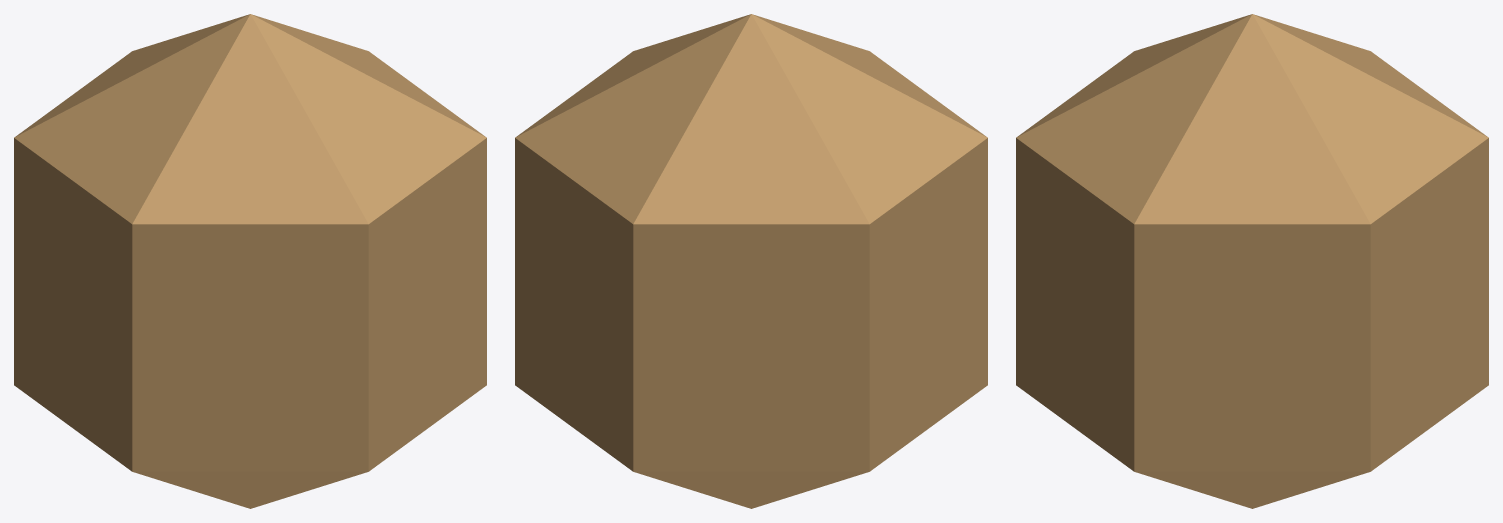
File: Eco Fase 1.fbx
The picture shows the model from 3 angles, left to right: view 1: azimuth 30°, elevation 25°; view 2: azimuth 150°, elevation 25°; view 3: azimuth 270°, elevation 25°; orthographic projection.
Visible parts, largest first — view 1: Sphere; view 2: Sphere; view 3: Sphere.
Part boxes in pixels (x1=…): Sphere: x1=14, y1=14, x2=486, y2=508; Sphere: x1=515, y1=14, x2=987, y2=508; Sphere: x1=1016, y1=14, x2=1488, y2=508.
Bounding box in the file's own units: 215 × 286 × 248.
